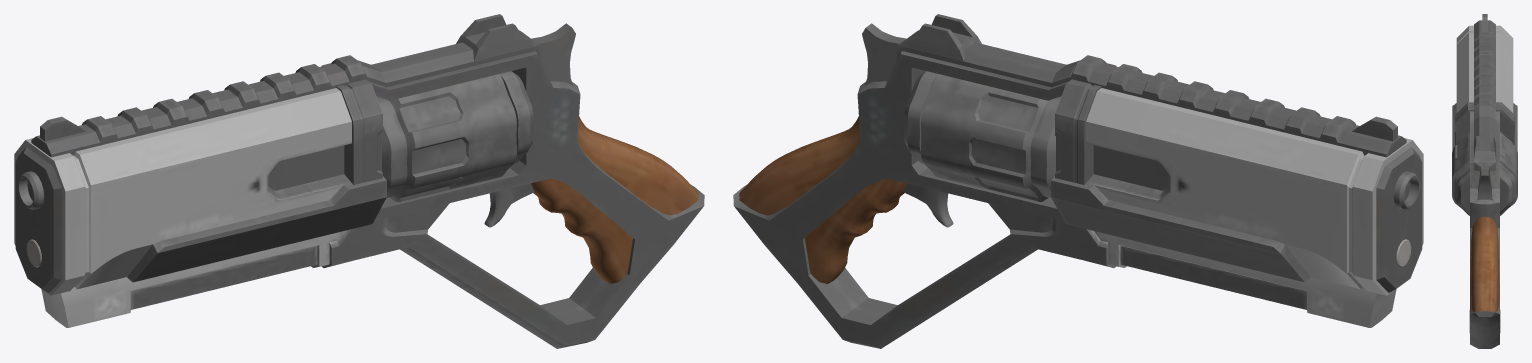
The model's file is Revolver.glb.
The picture shows the model from 3 angles, left to right: view 1: azimuth 30°, elevation 25°; view 2: azimuth 150°, elevation 25°; view 3: azimuth 270°, elevation 25°; orthographic projection. The views are drawn at different scales.
Visible parts, largest first — view 1: Gun_Revolver, Gun_Revolver_Barrel; view 2: Gun_Revolver, Gun_Revolver_Barrel; view 3: Gun_Revolver, Gun_Revolver_Barrel.
Boxes of the visible parts, <box> form: Gun_Revolver: <box>14,14,704,348</box>; Gun_Revolver_Barrel: <box>376,71,533,201</box>; Gun_Revolver: <box>733,14,1423,348</box>; Gun_Revolver_Barrel: <box>904,71,1061,201</box>; Gun_Revolver: <box>1452,14,1517,348</box>; Gun_Revolver_Barrel: <box>1452,131,1517,215</box>.
Bounding box in the file's own units: 0.5306 × 0.2616 × 0.0814.
Materials: 1 (1 with a texture image).
